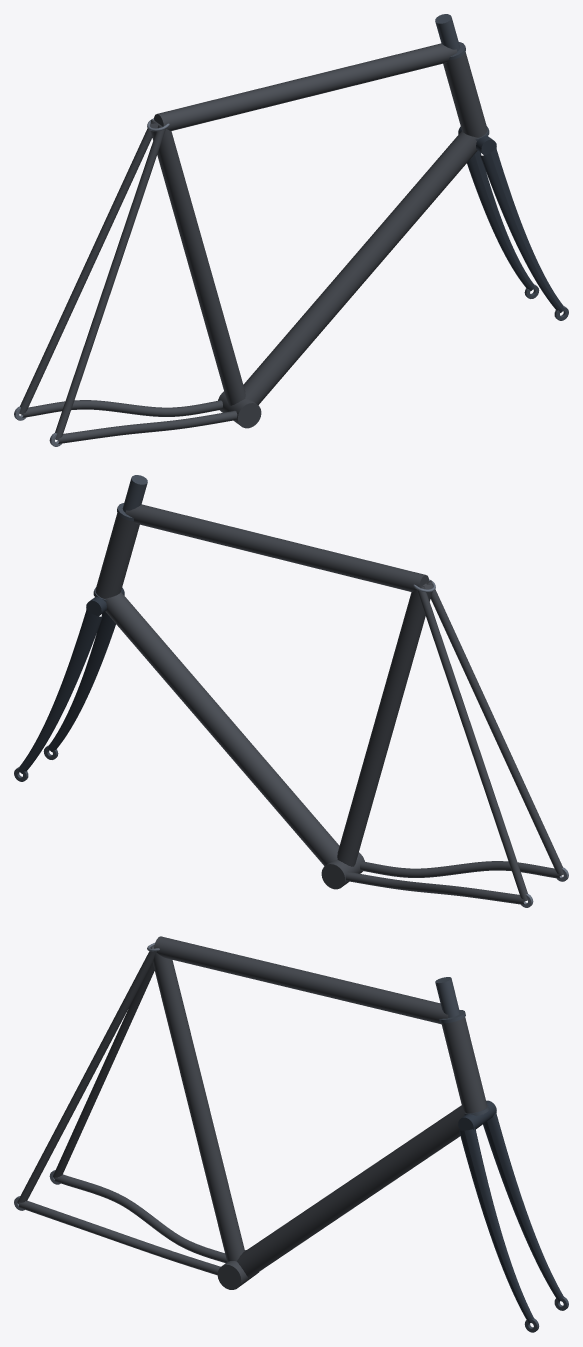
File: skream-magnum-l.glb
The picture shows the model from 3 angles, top to bottom: view 1: azimuth 30°, elevation 25°; view 2: azimuth 150°, elevation 25°; view 3: azimuth 330°, elevation 25°; orthographic projection.
Visible parts, largest first — view 1: paint_down, paint_top, paint_seat, paint_seatstay_1, paint_seatstay_-1, fork_blade_1, paint_head, paint_chainstay_-1, fork_blade_-1, paint_chainstay_1, paint_bottom_bracket, fork_steerer; view 2: paint_down, paint_top, paint_seat, paint_seatstay_-1, paint_seatstay_1, fork_blade_-1, paint_head, paint_chainstay_1, fork_blade_1, paint_chainstay_-1, paint_bottom_bracket, fork_steerer; view 3: paint_down, paint_seat, paint_top, fork_blade_1, paint_seatstay_1, fork_blade_-1, paint_head, paint_chainstay_1, paint_seatstay_-1, paint_chainstay_-1, fork_steerer, paint_bottom_bracket (+1 smaller).
Boxes of the visible parts, box(x1,y1,x2,y2) form: paint_down: box(243, 131, 478, 405); paint_top: box(154, 43, 457, 130); paint_seat: box(150, 122, 245, 405); paint_seatstay_1: box(55, 125, 165, 440); paint_seatstay_-1: box(19, 119, 156, 415); fork_blade_1: box(480, 148, 564, 312); paint_head: box(443, 52, 487, 137); paint_chainstay_-1: box(22, 400, 222, 417); fork_blade_-1: box(467, 150, 534, 290); paint_chainstay_1: box(58, 410, 237, 443); paint_bottom_bracket: box(218, 391, 261, 428); fork_steerer: box(435, 14, 460, 51); paint_down: box(104, 592, 339, 866); paint_top: box(125, 504, 428, 591); paint_seat: box(337, 583, 432, 866); paint_seatstay_-1: box(417, 586, 527, 901); paint_seatstay_1: box(426, 580, 563, 876); fork_blade_-1: box(18, 609, 102, 773); paint_head: box(95, 513, 139, 598); paint_chainstay_1: box(360, 861, 560, 878); fork_blade_1: box(48, 611, 115, 751); paint_chainstay_-1: box(345, 871, 524, 904); paint_bottom_bracket: box(321, 852, 364, 889); fork_steerer: box(122, 475, 147, 512); paint_down: box(236, 1105, 466, 1277); paint_seat: box(150, 945, 244, 1261); paint_top: box(154, 936, 448, 1024); fork_blade_1: box(459, 1128, 534, 1323); paint_seatstay_1: box(17, 946, 156, 1203); fork_blade_-1: box(483, 1113, 563, 1301); paint_head: box(441, 1017, 487, 1113); paint_chainstay_1: box(19, 1200, 220, 1275); paint_seatstay_-1: box(53, 963, 154, 1178); paint_chainstay_-1: box(54, 1174, 226, 1262); fork_steerer: box(435, 977, 483, 1114); paint_bottom_bracket: box(217, 1250, 258, 1289).
Size of the model in its own units: 1.01 by 0.6564 by 0.1401.
